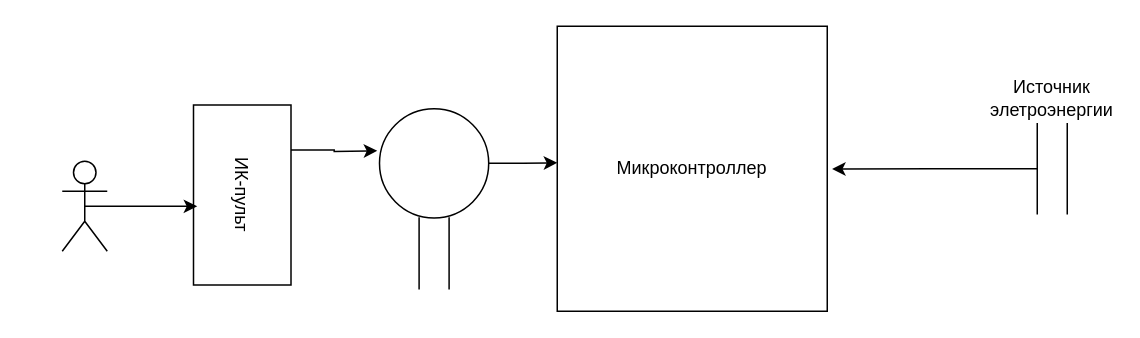
The diagram is 1140 pixels wide and 338 high, and some of its shapes have lost their labels. The shapes that lost their labels are listed below. From the top down, each one's centre as x and y in pixels, then its label:
At [433,162]: "ИК-приемник".
At [84,205]: "Пользователь".
